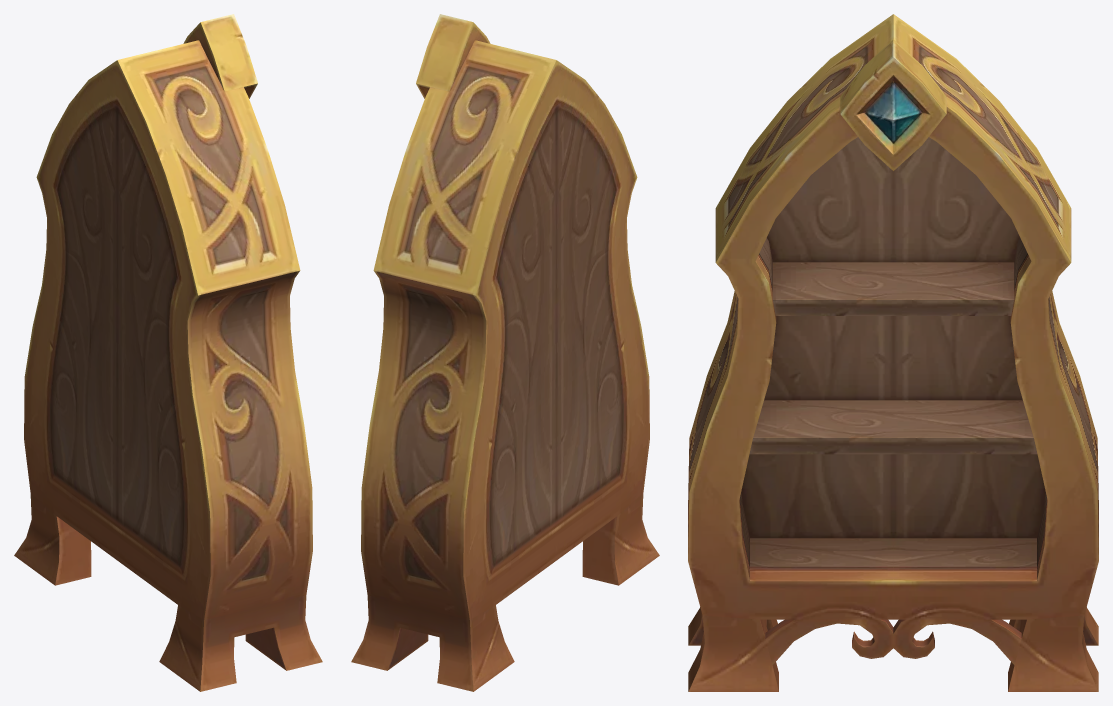
3 renders of one model, left to right at view 1: azimuth 30°, elevation 25°; view 2: azimuth 150°, elevation 25°; view 3: azimuth 270°, elevation 25°, orthographic. The views are drawn at different scales.
Bounding box in the file's own units: 1 × 4.02 × 2.35.
1 material, 1 textured.
